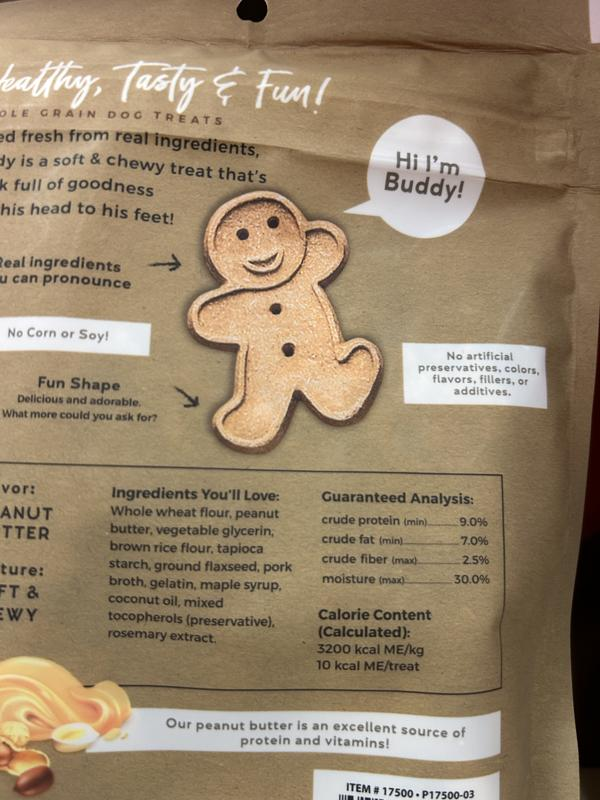ingredients: (102, 482, 294, 646)
